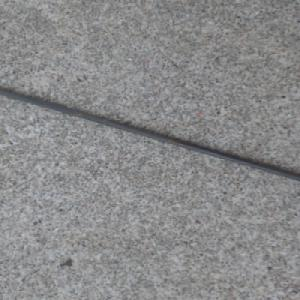LuggagePart: (0, 88, 300, 181)
